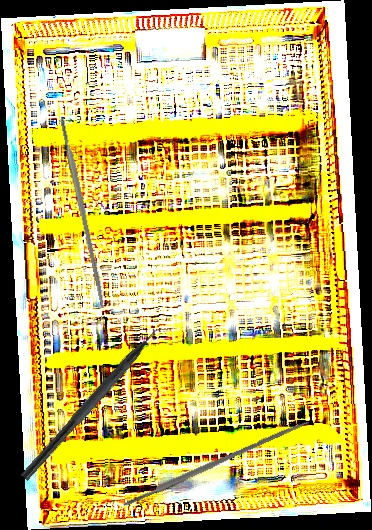Chopper: (20, 314, 178, 491)
Scalpel Handle: (121, 418, 310, 508), (58, 117, 108, 309)
